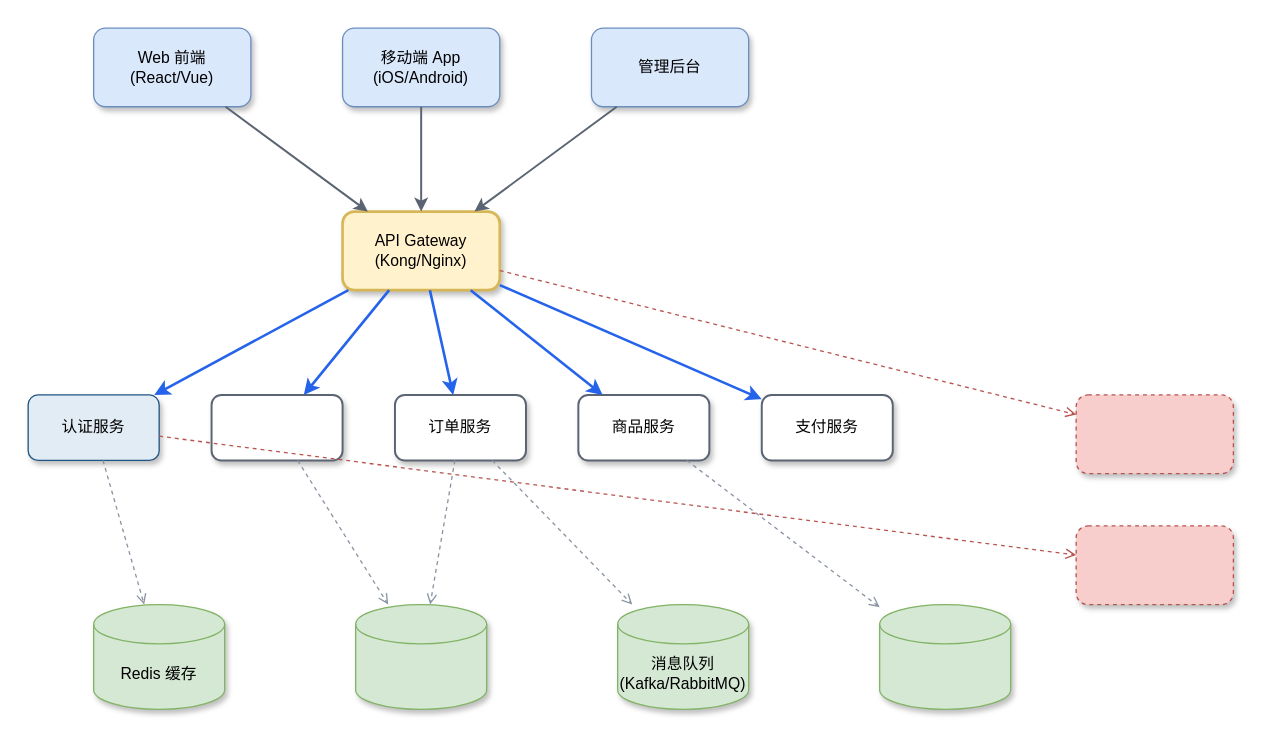
This 1264x741 diagram has some shape labels left out. The centre of each missing label's shape, as x and y in pixels:
"MySQL 集群" goes at point (422, 658).
"对象存储 (OSS/S3)" goes at point (946, 658).
"日志系统 (ELK)" goes at point (1155, 566).
"用户中心" goes at point (278, 429).
"监控告警 (Prometheus/Grafana)" goes at point (1155, 435).
